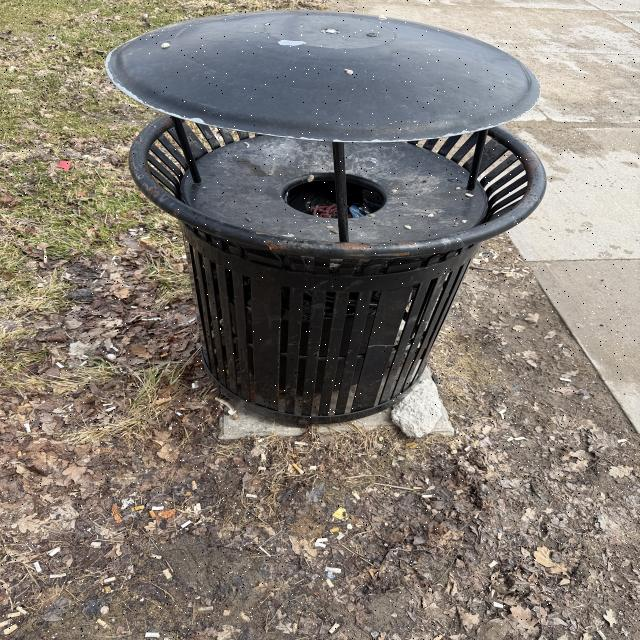Dustbin: (100, 12, 547, 427)
